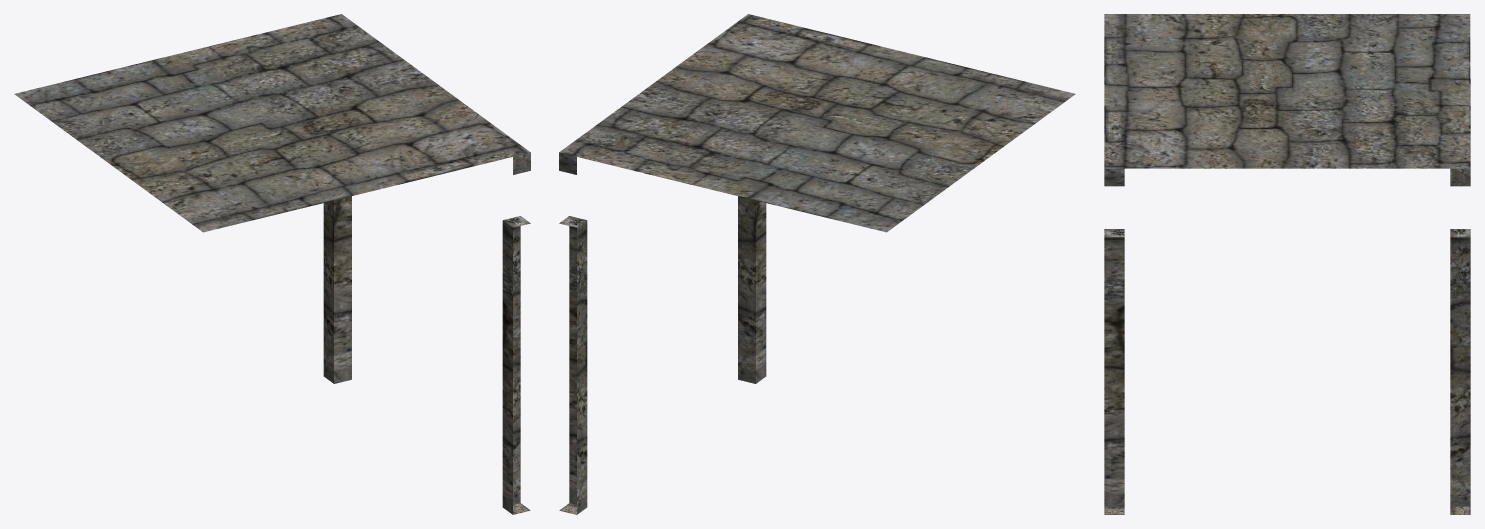
The model's file is Fort_11101011.gltf.
3 views of the same model, side by side, from view 1: azimuth 30°, elevation 25°; view 2: azimuth 150°, elevation 25°; view 3: azimuth 270°, elevation 25° (orthographic). The views are drawn at different scales.
Visible parts, largest first — view 1: Claimed_11101011; view 2: Claimed_11101011; view 3: Claimed_11101011.
Part boxes in pixels (x1,y1,x2,y2): Claimed_11101011: (14,14,530,514); Claimed_11101011: (559,14,1075,514); Claimed_11101011: (1104,14,1470,514).
Size of the model in its own units: 2.5 by 2.61 by 2.5.
Materials: 1 (1 with a texture image).
